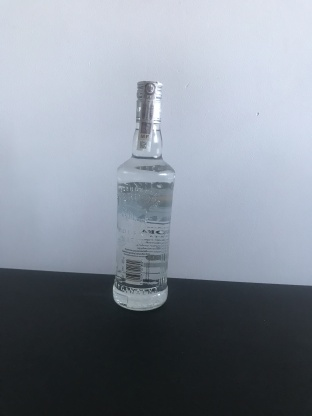nakretka: (133, 76, 165, 127)
